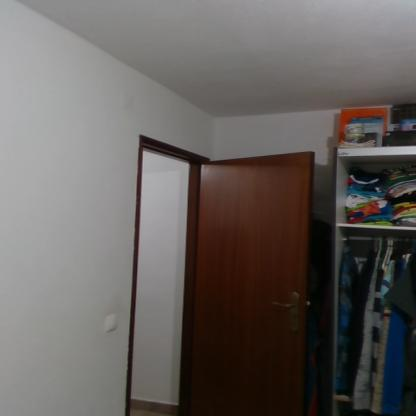open: (126, 129, 336, 415)
